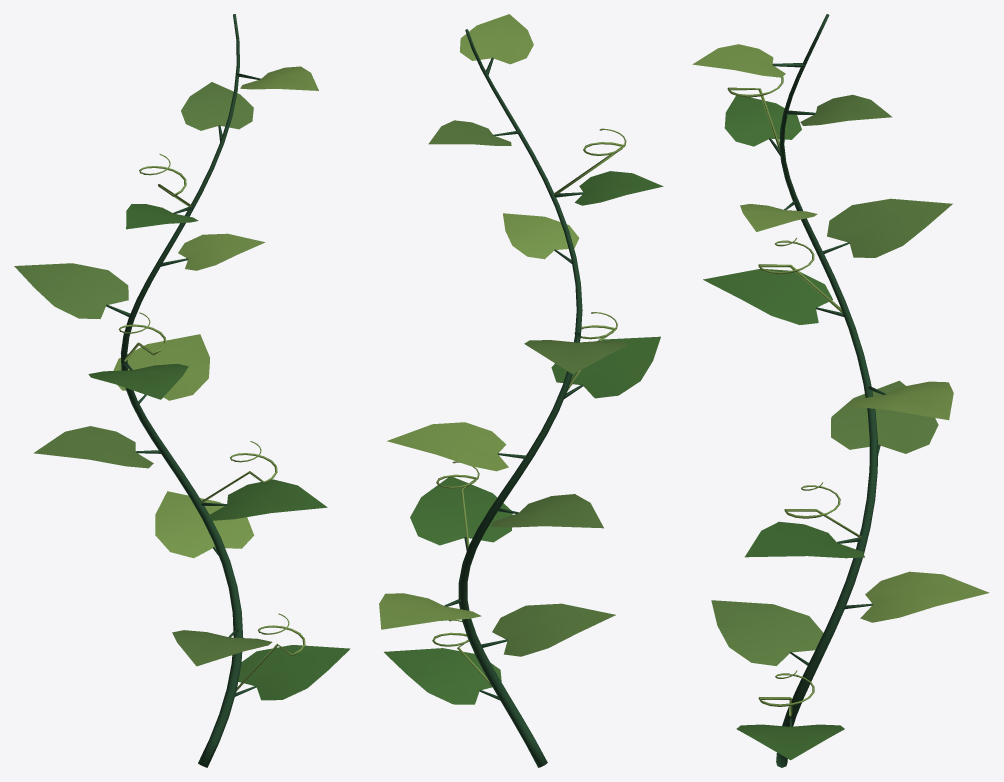
File: meadow_climbing_vine.hi.glb
The picture shows the model from 3 angles, left to right: view 1: azimuth 30°, elevation 25°; view 2: azimuth 150°, elevation 25°; view 3: azimuth 270°, elevation 25°; orthographic projection. The views are drawn at different scales.
Parts seen in each view (by area): view 1: body; view 2: body; view 3: body.
Boxes of the visible parts, x1=… form: body: x1=14, y1=14, x2=350, y2=767; body: x1=379, y1=14, x2=663, y2=767; body: x1=692, y1=14, x2=989, y2=767.
Size of the model in its own units: 0.2535 by 0.6528 by 0.2262.
